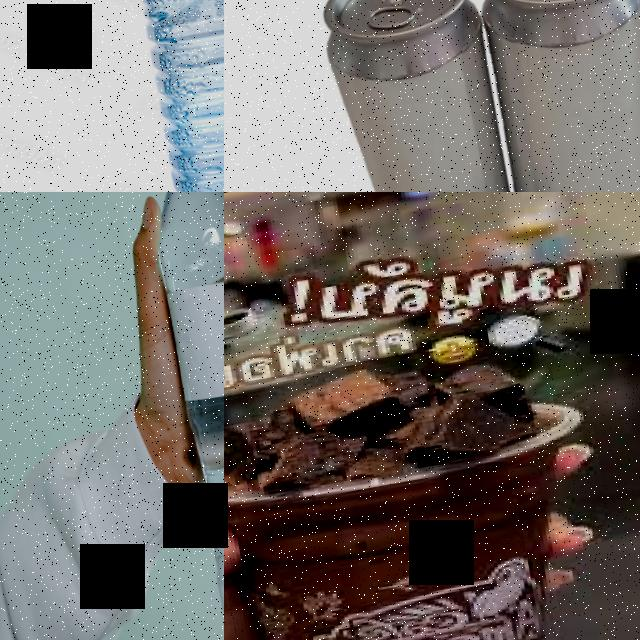bottle: (123, 192, 224, 640), (89, 0, 224, 192)
can: (310, 0, 529, 192), (468, 0, 640, 192)
cup: (224, 391, 640, 640)
